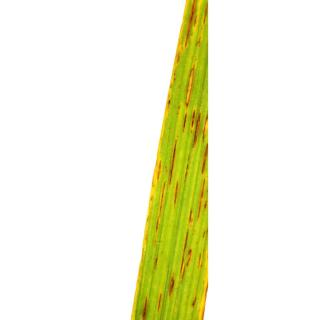Bercak-Cokelat-Sempit: (191, 116, 215, 176), (187, 0, 208, 49), (152, 183, 168, 238), (192, 179, 210, 225), (165, 138, 181, 186), (180, 232, 194, 284), (185, 63, 199, 113), (164, 276, 177, 304), (134, 296, 148, 320), (154, 292, 164, 313)
